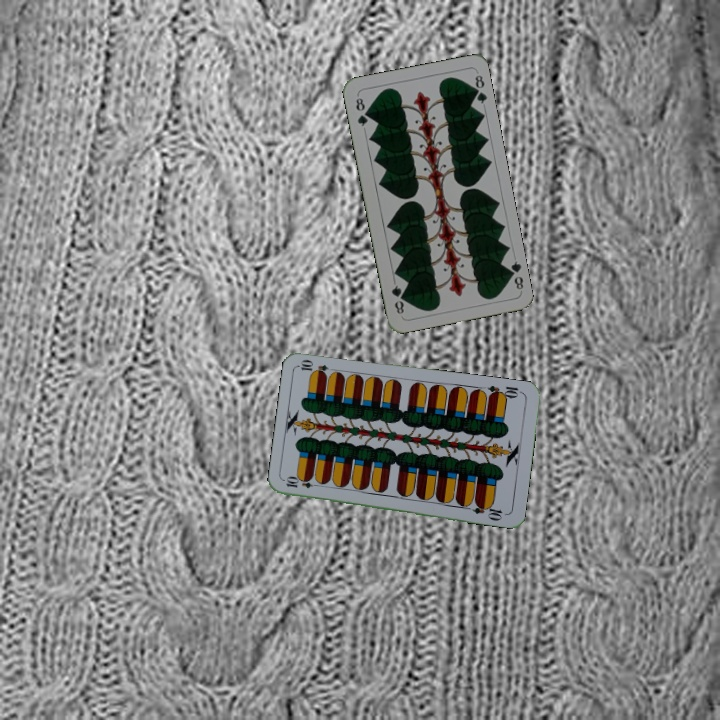E10: (484, 381, 525, 401), (282, 475, 323, 491)
G8: (503, 257, 526, 294), (352, 93, 371, 129)
